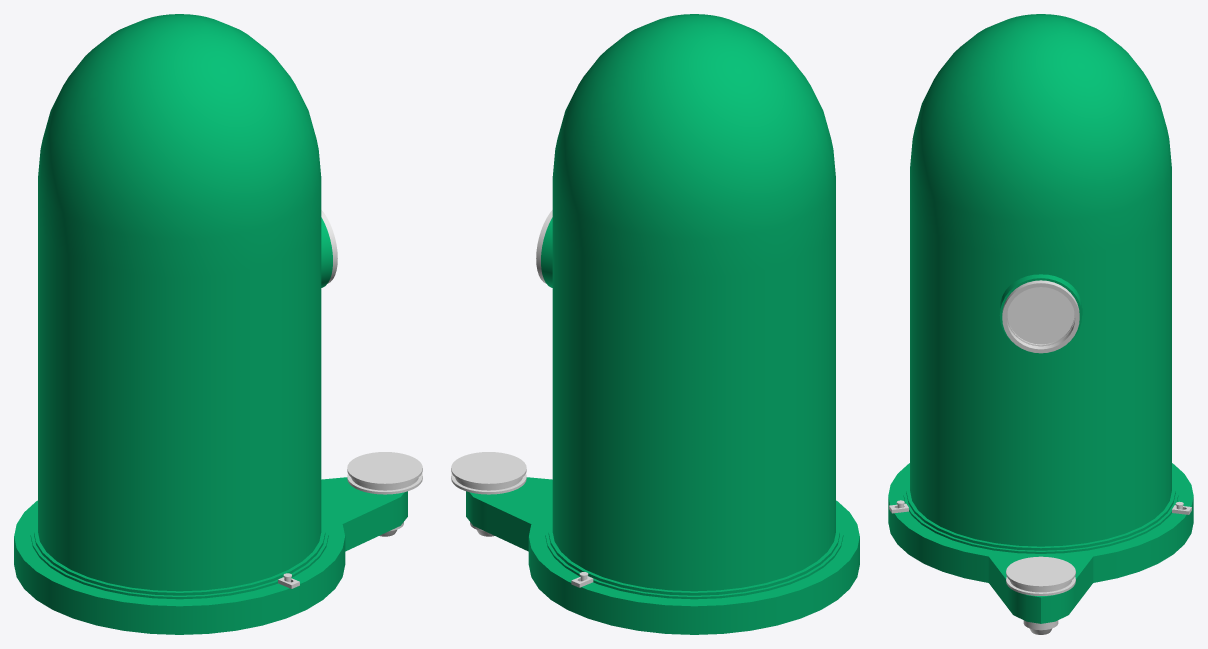
3 renders of one model, left to right at view 1: azimuth 30°, elevation 25°; view 2: azimuth 150°, elevation 25°; view 3: azimuth 270°, elevation 25°, orthographic. The views are drawn at different scales.
Visible parts, largest first — view 1: 胶囊, 内嵌螺丝, 透镜; view 2: 胶囊, 内嵌螺丝, 透镜; view 3: 胶囊, 透镜, 内嵌螺丝.
Part boxes in pixels (box(x1,y1,x2,y2)): 胶囊: box(14, 14, 407, 634); 内嵌螺丝: box(347, 452, 422, 536); 透镜: box(321, 210, 337, 287); 胶囊: box(466, 14, 859, 634); 内嵌螺丝: box(451, 452, 526, 536); 透镜: box(536, 210, 552, 287); 胶囊: box(888, 14, 1193, 623); 透镜: box(999, 274, 1082, 353); 内嵌螺丝: box(1006, 556, 1075, 634).
Size of the model in its own units: 0.9319 by 1.3 by 0.7003.
